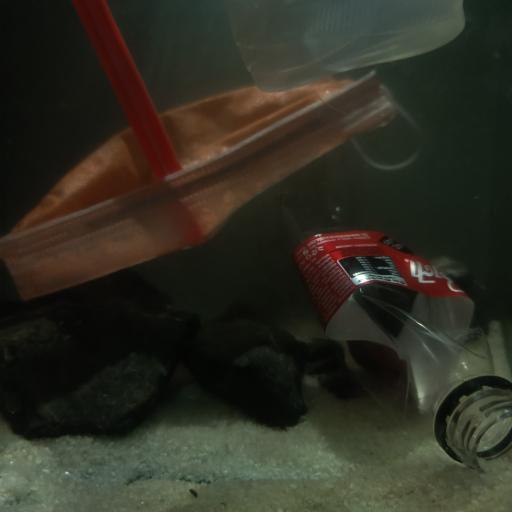mask: (2, 84, 422, 294)
plastic_bottle: (278, 179, 512, 469)
plastic_cup: (228, 0, 467, 82)
plastic_straw: (75, 0, 178, 179)
